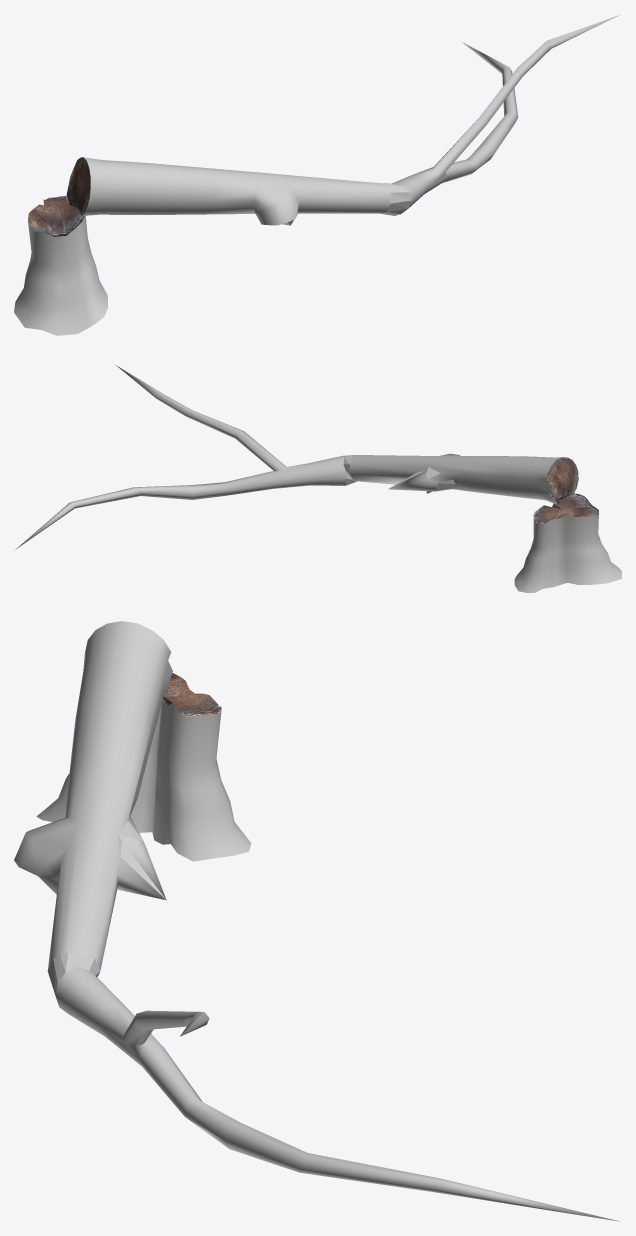
File: SM_Veg_Tree_Fir_03_Broken.FBX
3 renders of one model, top to bottom at view 1: azimuth 30°, elevation 25°; view 2: azimuth 150°, elevation 25°; view 3: azimuth 270°, elevation 25°, orthographic. The views are drawn at different scales.
Parts seen in each view (by area): view 1: SM_Veg_Tree_Fir_03_Broken_LOD0; view 2: SM_Veg_Tree_Fir_03_Broken_LOD0; view 3: SM_Veg_Tree_Fir_03_Broken_LOD0.
Boxes of the visible parts, bbox=[...] form: SM_Veg_Tree_Fir_03_Broken_LOD0: bbox=[14, 14, 620, 335]; SM_Veg_Tree_Fir_03_Broken_LOD0: bbox=[15, 365, 621, 592]; SM_Veg_Tree_Fir_03_Broken_LOD0: bbox=[14, 621, 619, 1221].
Size of what is drawn, in the model's own units: 6.69 by 1.49 by 3.7.
